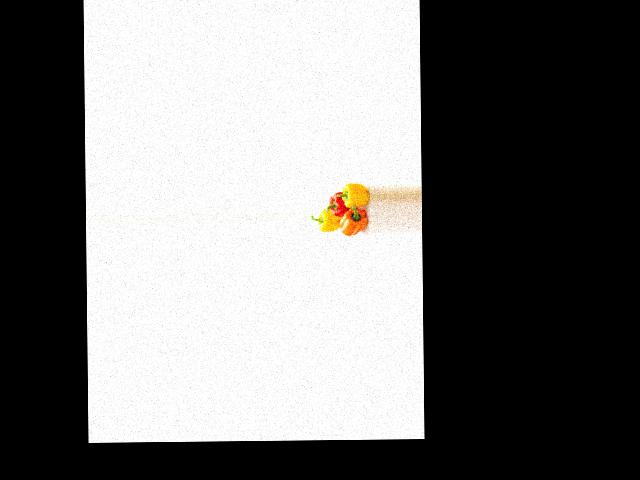bell_pepper: (337, 182, 369, 215)
